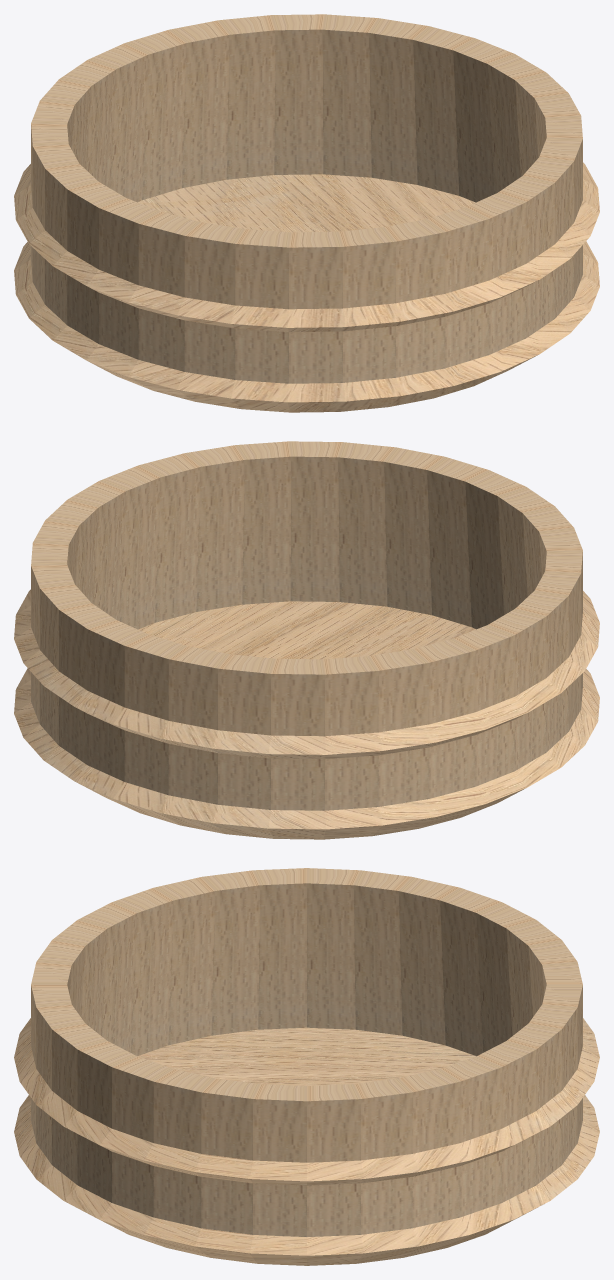
Rendered from hangiri.obj.
3 views of the same model, one above another, from view 1: azimuth 30°, elevation 25°; view 2: azimuth 150°, elevation 25°; view 3: azimuth 270°, elevation 25° (orthographic).
Parts seen in each view (by area): view 1: Cylinder, Torus.001, Torus.000_Torus.002; view 2: Cylinder, Torus.001, Torus.000_Torus.002; view 3: Cylinder, Torus.001, Torus.000_Torus.002.
Part boxes in pixels (left/top/right/bottom): Cylinder: left=31, top=14, right=582, bottom=383; Torus.001: left=14, top=241, right=599, bottom=412; Torus.000_Torus.002: left=14, top=162, right=599, bottom=332; Cylinder: left=31, top=441, right=582, bottom=810; Torus.001: left=14, top=668, right=599, bottom=839; Torus.000_Torus.002: left=14, top=589, right=599, bottom=759; Cylinder: left=31, top=868, right=582, bottom=1236; Torus.001: left=14, top=1095, right=599, bottom=1265; Torus.000_Torus.002: left=14, top=1018, right=599, bottom=1185.
Size of the model in its own units: 0.7661 by 0.2518 by 0.7661.
Materials: 1 (1 with a texture image).
